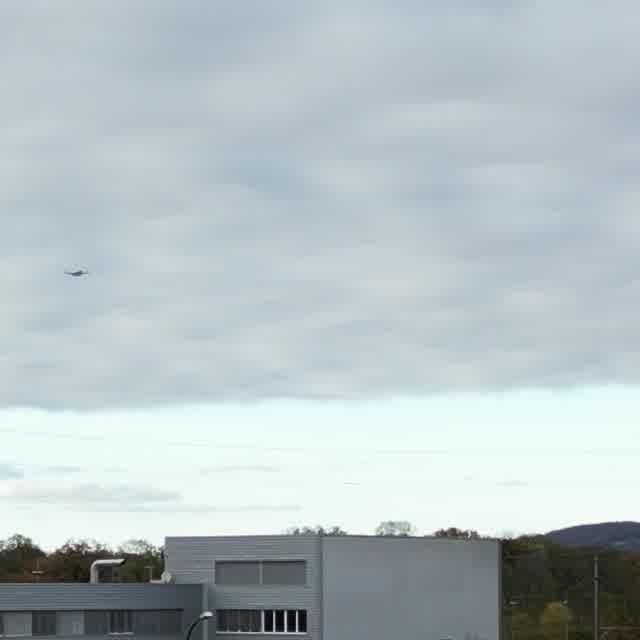Drohne: (65, 270, 88, 276)
